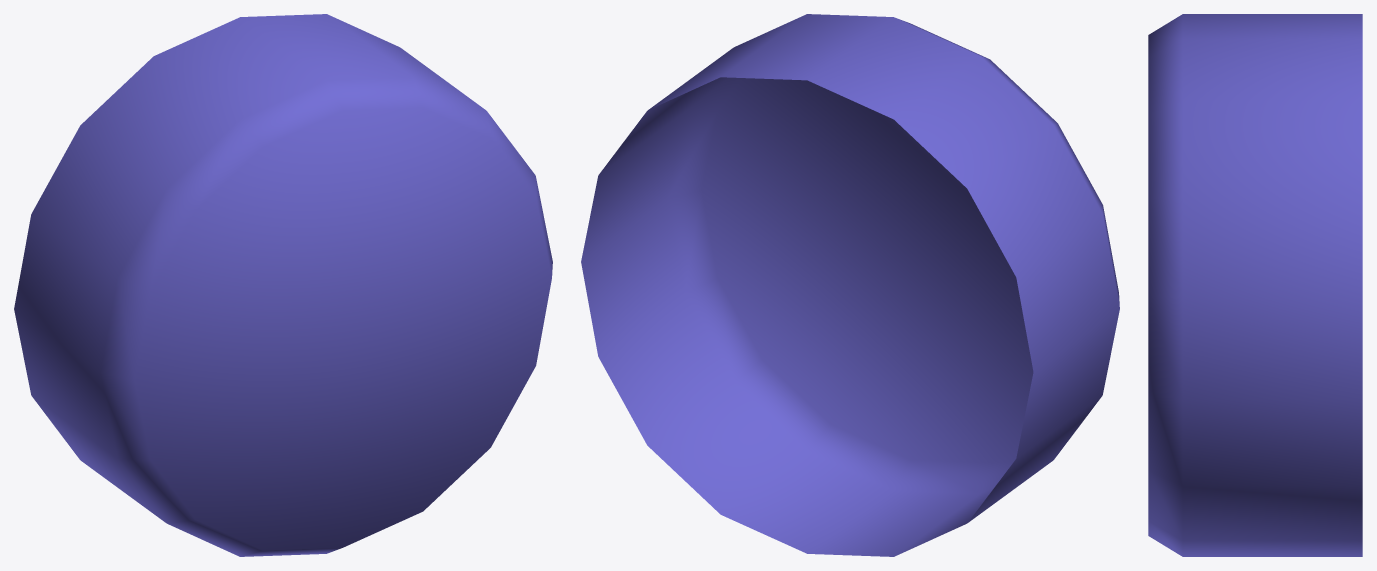
File: VMP_MOD_Soda_machine_01_button_01.fbx
The picture shows the model from 3 angles, left to right: view 1: azimuth 30°, elevation 25°; view 2: azimuth 150°, elevation 25°; view 3: azimuth 270°, elevation 25°; orthographic projection. The views are drawn at different scales.
Visible parts, largest first — view 1: VMP_MOD_Soda_machine_01_button_01; view 2: VMP_MOD_Soda_machine_01_button_01; view 3: VMP_MOD_Soda_machine_01_button_01.
Part boxes in pixels (box(x1,y1,x2,y2)): VMP_MOD_Soda_machine_01_button_01: box(14, 14, 552, 556); VMP_MOD_Soda_machine_01_button_01: box(581, 14, 1119, 556); VMP_MOD_Soda_machine_01_button_01: box(1148, 14, 1362, 556).
Bounding box in the file's own units: 0.0242 × 0.0242 × 0.00957.
